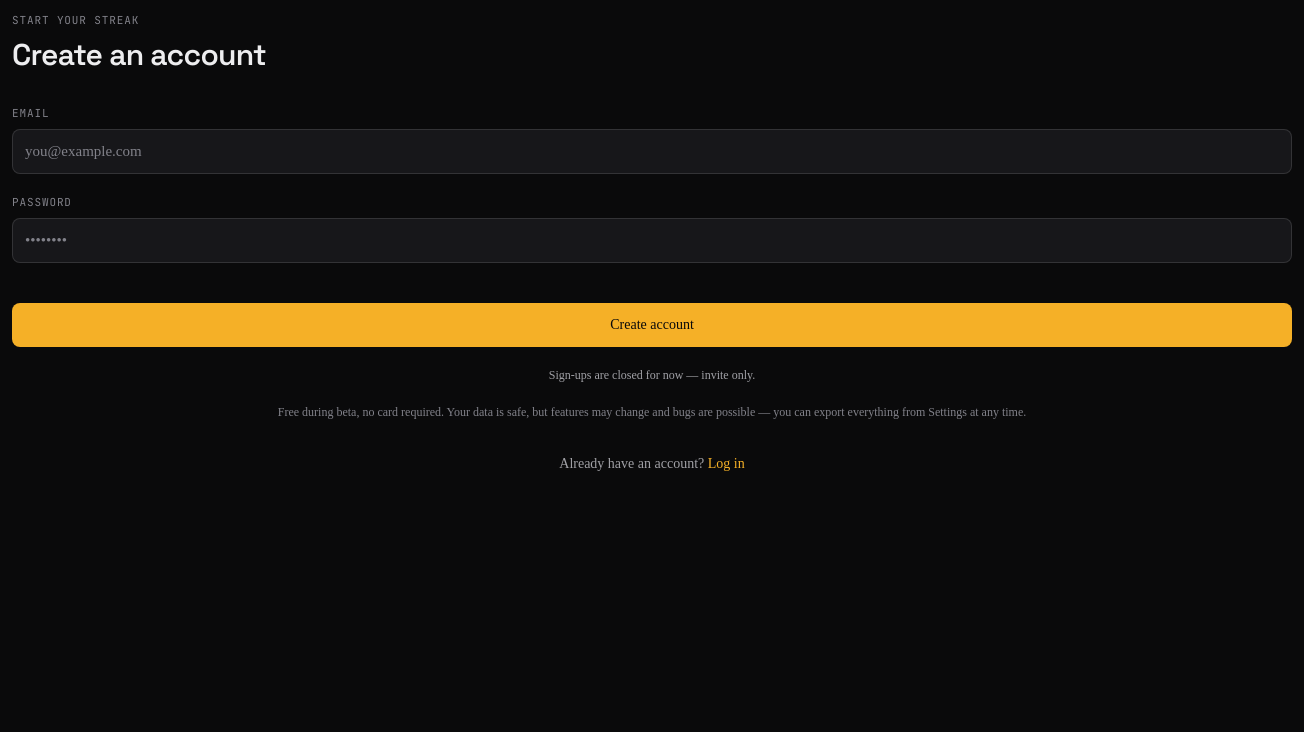
SignupPage › signs up with the token and confirm redirect, then shows the sent state
Type "sam@example.com" into the field labelled "Email".
click(652, 151); type("sam@example.com")  # box [12,129,1292,174]
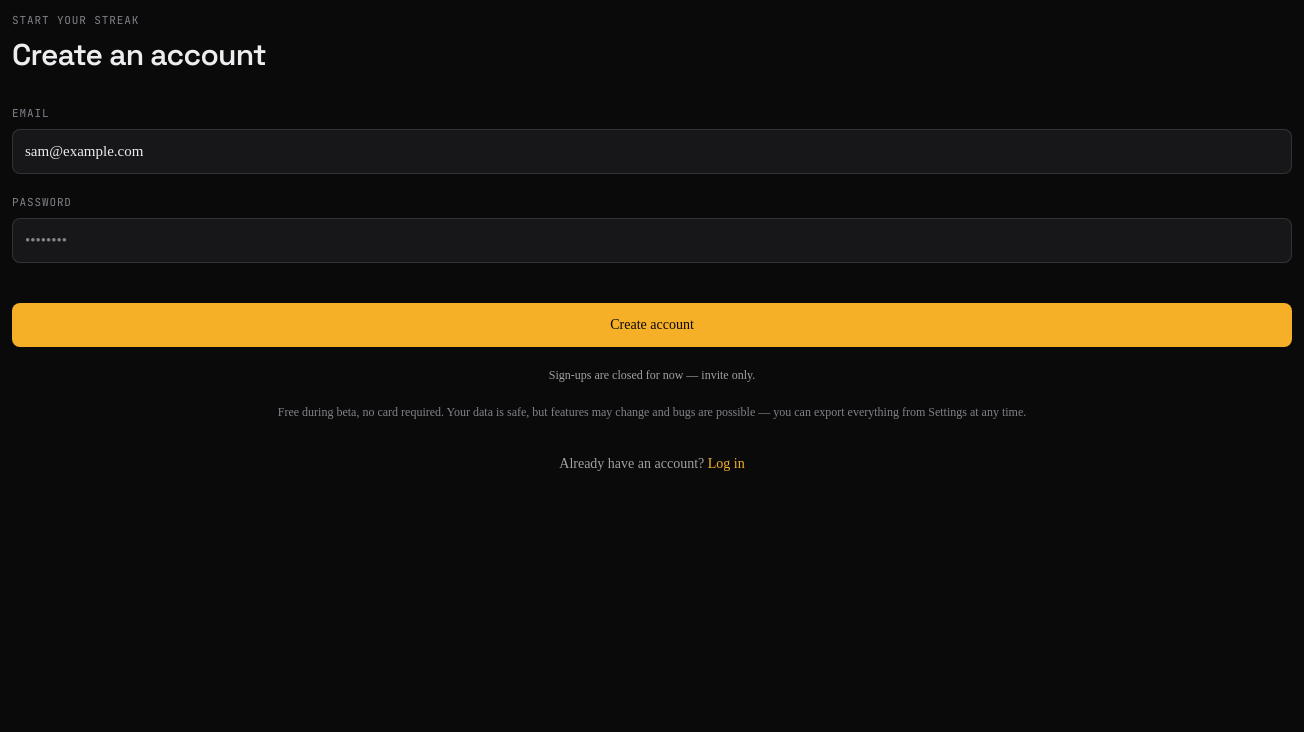
Type "longenough-pw" into the password field labelled "Password".
click(652, 240); type("longenough-pw")  # box [12,218,1292,262]
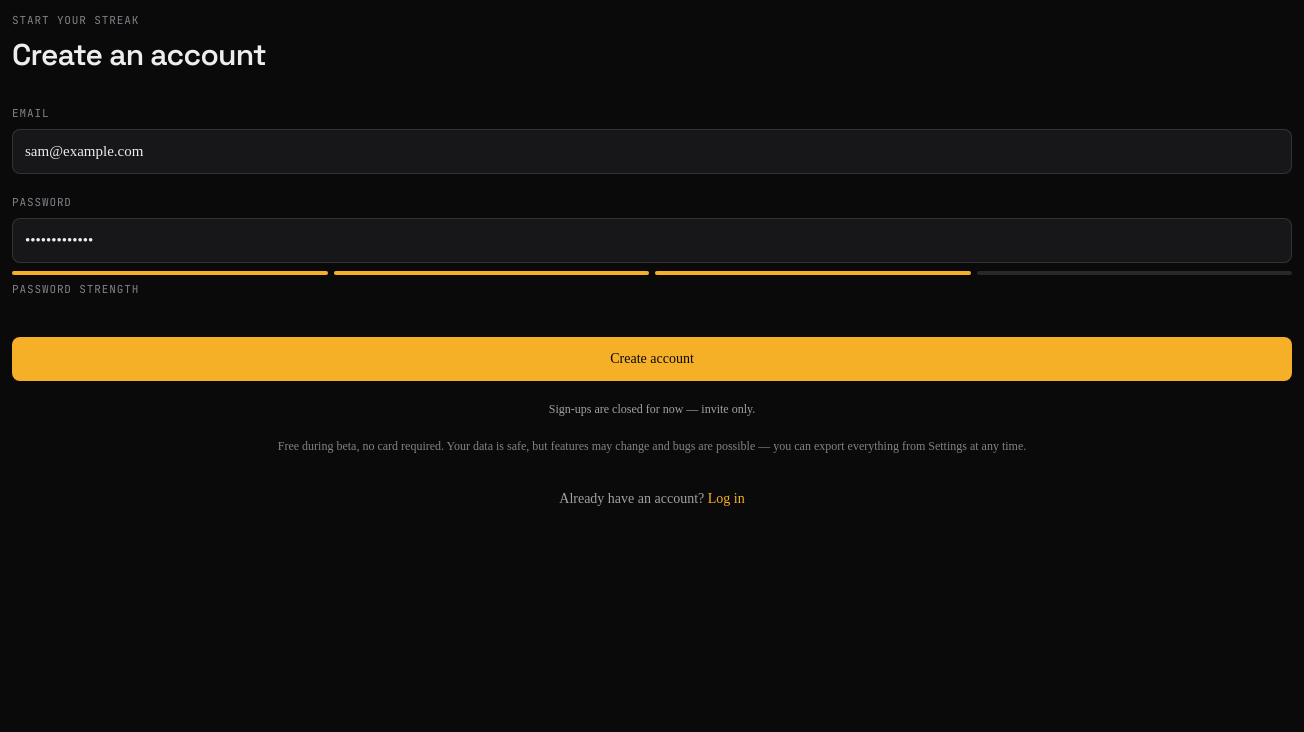
Click the button "Create account".
click(652, 359)  # box [12,337,1292,381]
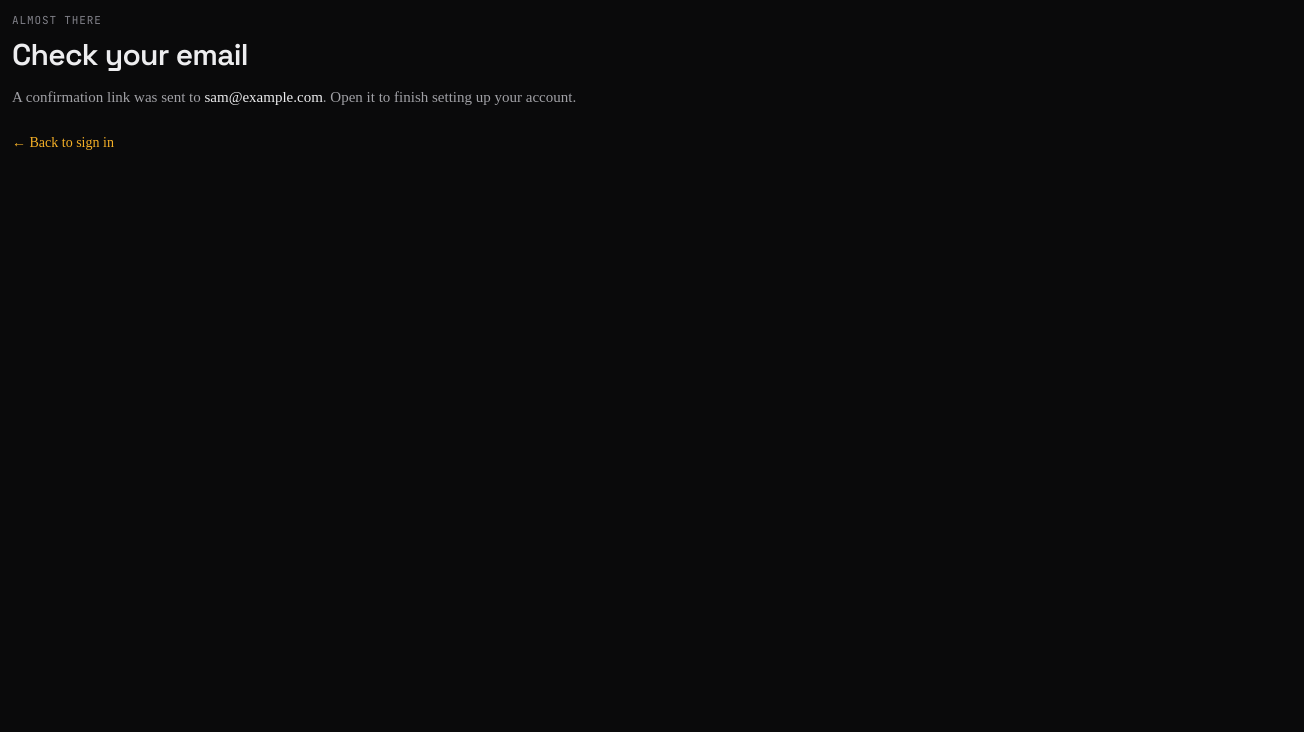
Expected: the heading "Check your email" is shown, [12,34,248,74]
Expected: the text "sam@example.com" is shown, [204,88,323,104]
